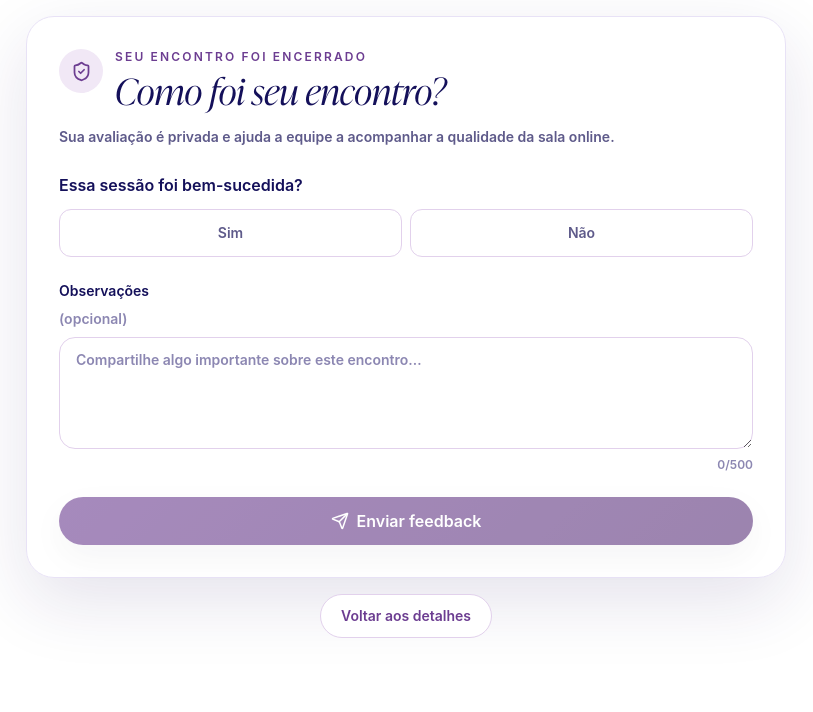
ZoomVideoSessionAdapter › refreshes the patient return state only after its feedback persists
This screenshot has width=813, height=712.
Expected: the heading "Como foi seu encontro?" is shown, [115,69,446,109]
Click the button "Sim".
click(230, 233)  # box [59,209,402,257]
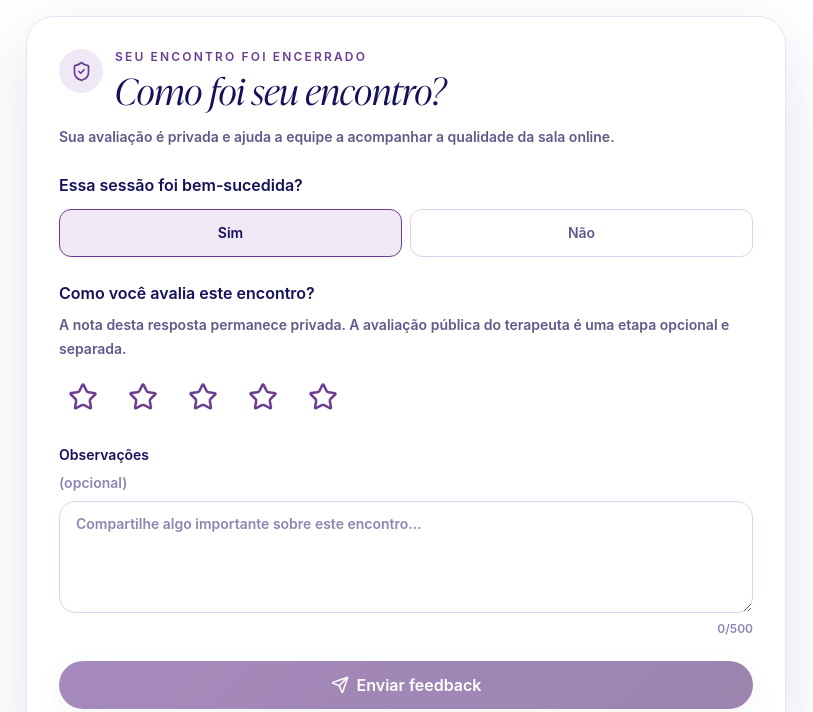
Click the button named "5 estrelas".
click(323, 397)  # box [299,373,347,421]
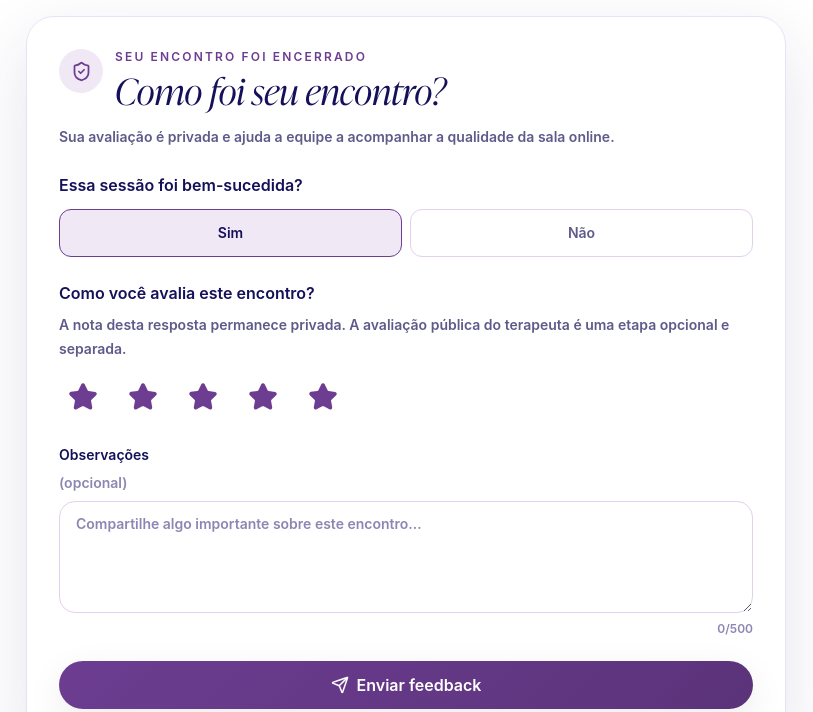
Click the button "Enviar feedback".
click(406, 685)  # box [59,661,753,709]
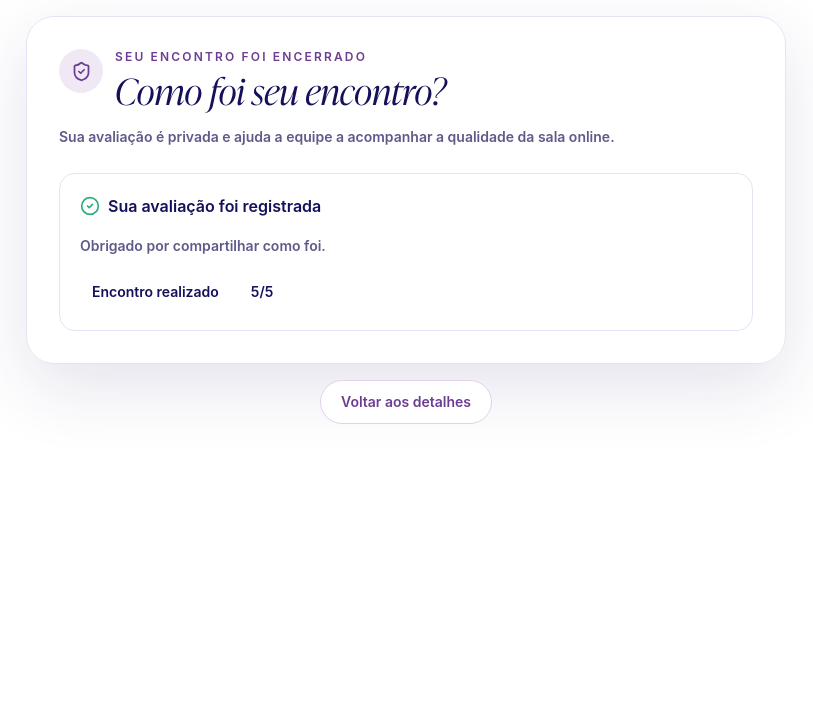
Expected: the text "Sua avaliação foi registrada" is shown, [80,196,321,216]
